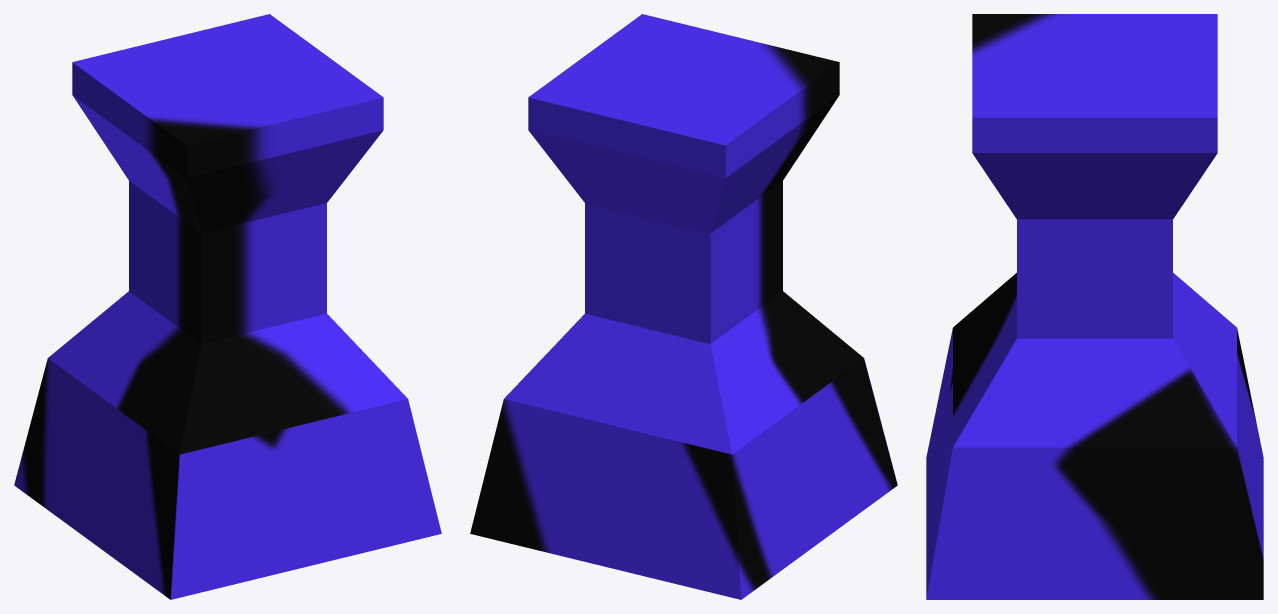
Rendered from obstacle.glb.
The picture shows the model from 3 angles, left to right: view 1: azimuth 30°, elevation 25°; view 2: azimuth 150°, elevation 25°; view 3: azimuth 270°, elevation 25°; orthographic projection. The views are drawn at different scales.
Visible parts, largest first — view 1: Cube; view 2: Cube; view 3: Cube.
Boxes of the visible parts, x1=… form: Cube: x1=14, y1=14, x2=441, y2=599; Cube: x1=470, y1=14, x2=897, y2=599; Cube: x1=926, y1=14, x2=1263, y2=599.
Size of the model in its own units: 0.8772 by 1.33 by 0.8772.
Materials: 1 (1 with a texture image).
